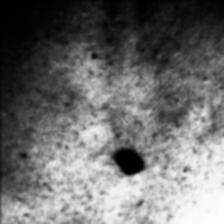Toxin: (110, 146, 146, 178)
